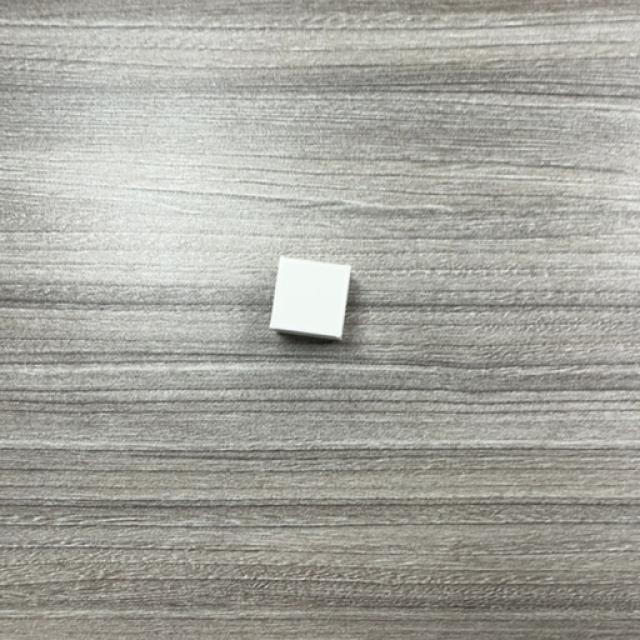Blanco: (269, 258, 351, 342)
